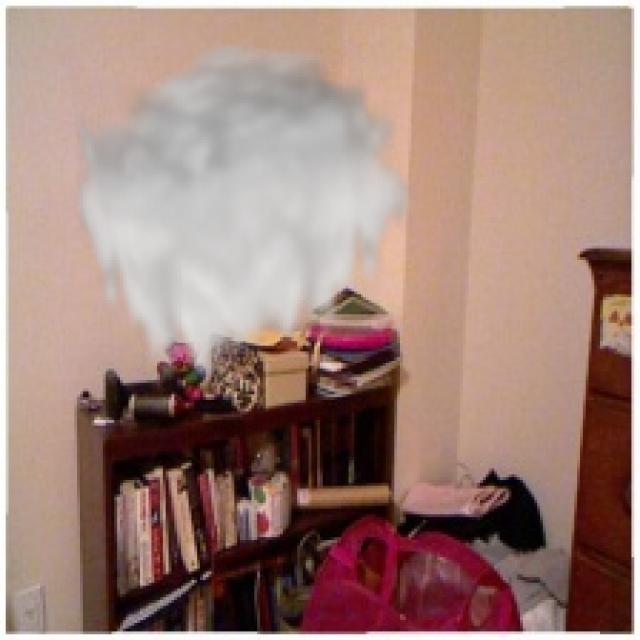smoke: (72, 34, 417, 394)
